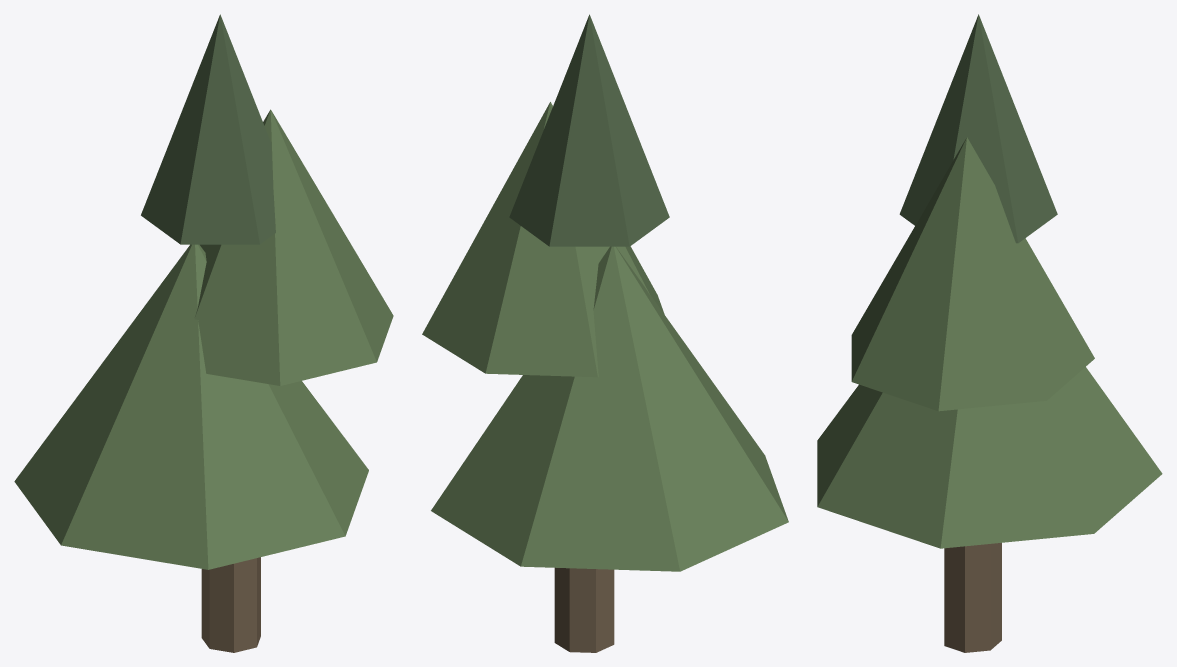
Rendered from prop_pine.glb.
The picture shows the model from 3 angles, left to right: view 1: azimuth 30°, elevation 25°; view 2: azimuth 150°, elevation 25°; view 3: azimuth 270°, elevation 25°; orthographic projection.
Parts seen in each view (by area): view 1: accent_skirt, trim_top, body_trunk; view 2: accent_skirt, trim_top, body_trunk; view 3: accent_skirt, trim_top, body_trunk.
Boxes of the visible parts, left/top/right/bottom form: accent_skirt: left=14, top=109, right=393, bottom=569; trim_top: left=141, top=14, right=275, bottom=244; body_trunk: left=201, top=557, right=260, bottom=652; accent_skirt: left=422, top=102, right=788, bottom=571; trim_top: left=509, top=14, right=669, bottom=246; body_trunk: left=554, top=567, right=614, bottom=652; accent_skirt: left=817, top=137, right=1162, bottom=548; trim_top: left=899, top=14, right=1057, bottom=243; body_trunk: left=944, top=543, right=1001, bottom=652.
Bounding box in the file's own units: 1.64 × 2.95 × 1.48.
